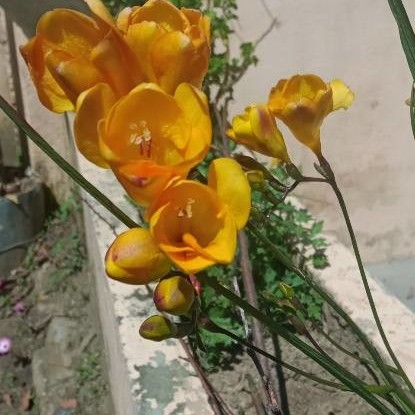obstacle: (38, 34, 344, 393)
